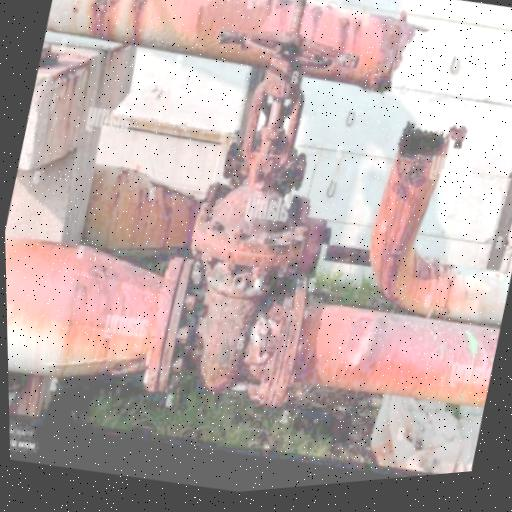corrosion: (129, 5, 382, 414), (5, 215, 196, 419), (291, 281, 503, 435), (344, 86, 485, 313)
